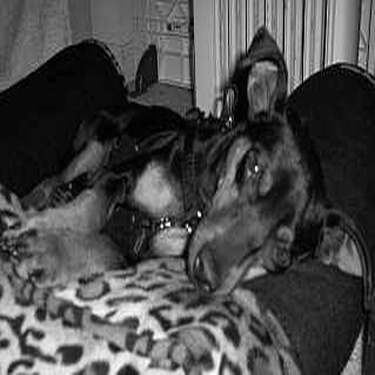dog: (3, 22, 371, 321)
